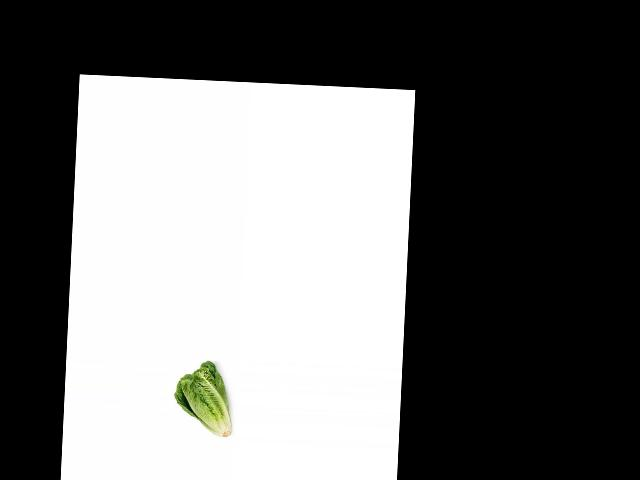lettuce: (173, 359, 237, 442)
